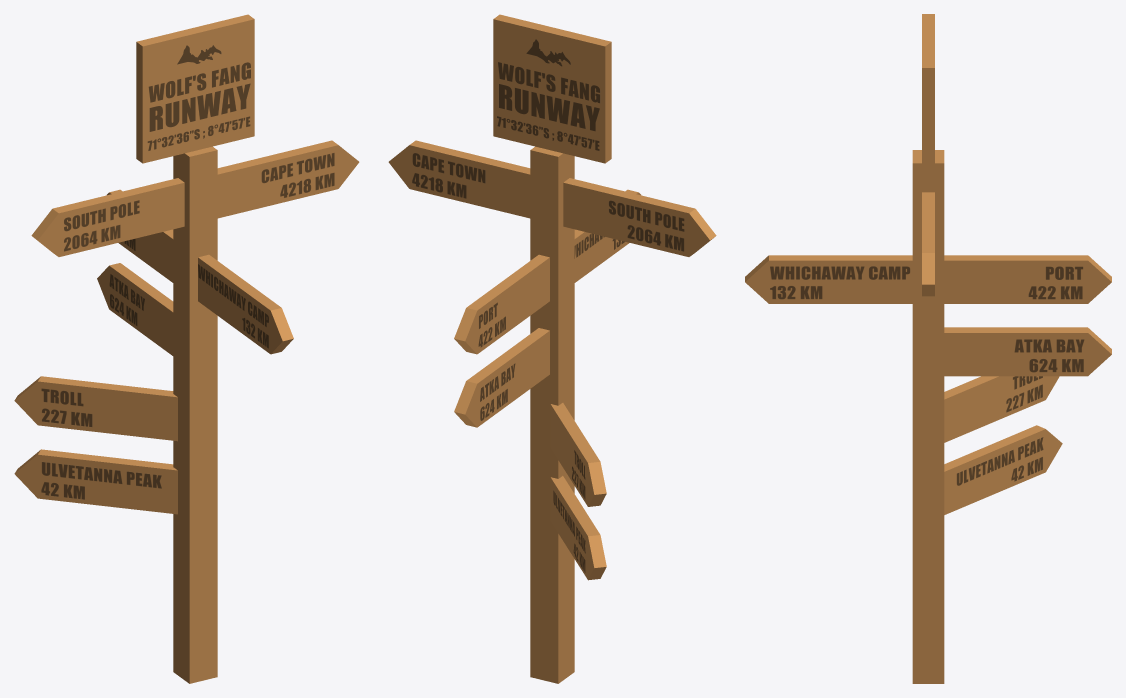
The model's file is wolfsfang_plate.gltf.
The picture shows the model from 3 angles, left to right: view 1: azimuth 30°, elevation 25°; view 2: azimuth 150°, elevation 25°; view 3: azimuth 270°, elevation 25°; orthographic projection.
Parts seen in each view (by area): view 1: Cube; view 2: Cube; view 3: Cube.
Boxes of the visible parts, left/top/right/bottom form: Cube: left=14, top=14, right=359, bottom=683; Cube: left=388, top=14, right=716, bottom=683; Cube: left=745, top=14, right=1111, bottom=683.
Bounding box in the file's own units: 2.88 × 5.5 × 2.88.
